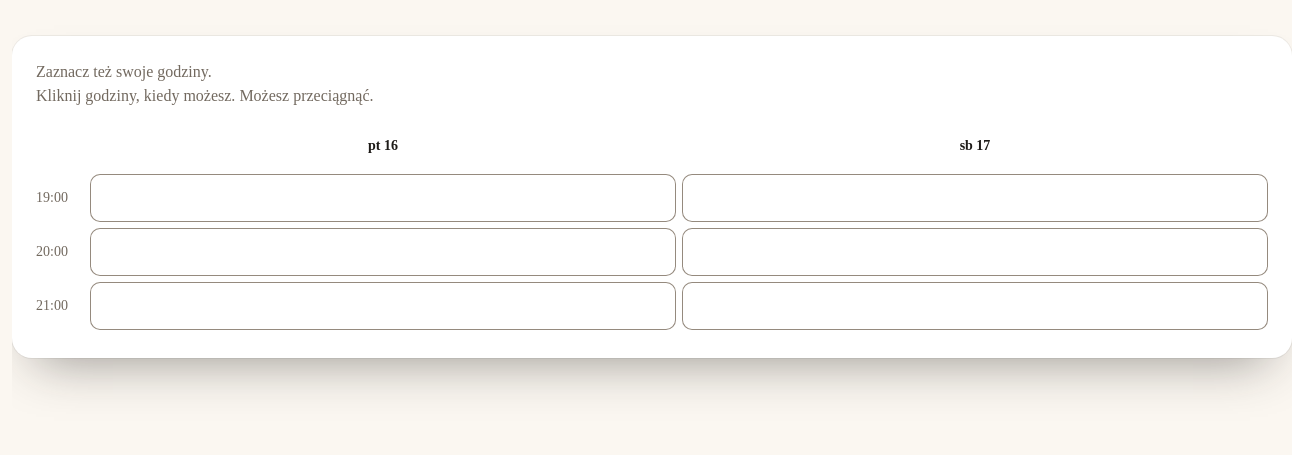
the invitation to make one's own poll › never shows to the organiser
Click the button named "pt 16, 19:00" at (383, 198), box [90, 174, 676, 222]
Wait 500 ms
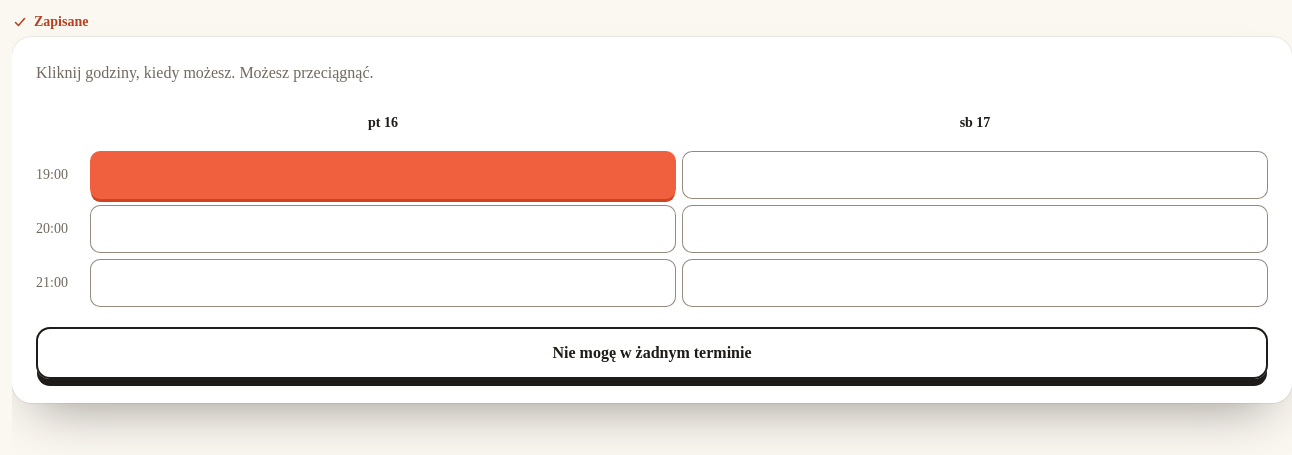
expect the message reads "Zapisane": met, box [34, 14, 88, 29]
